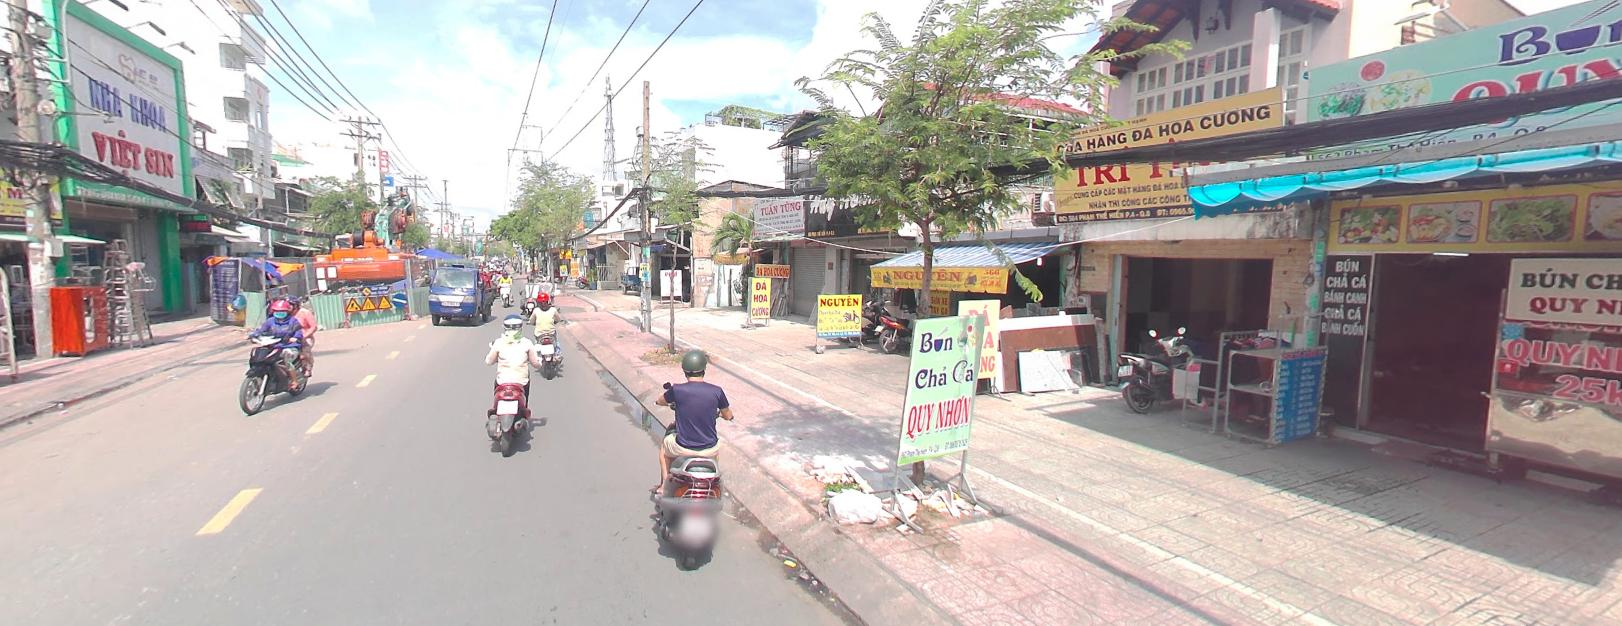Nguy hiem: (343, 295, 360, 308), (377, 293, 393, 306), (361, 294, 377, 307)
